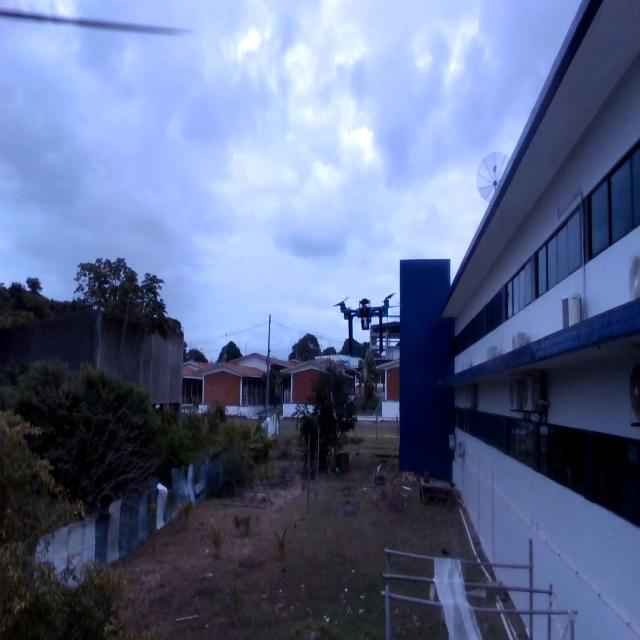-uav-: (326, 272, 399, 369)
